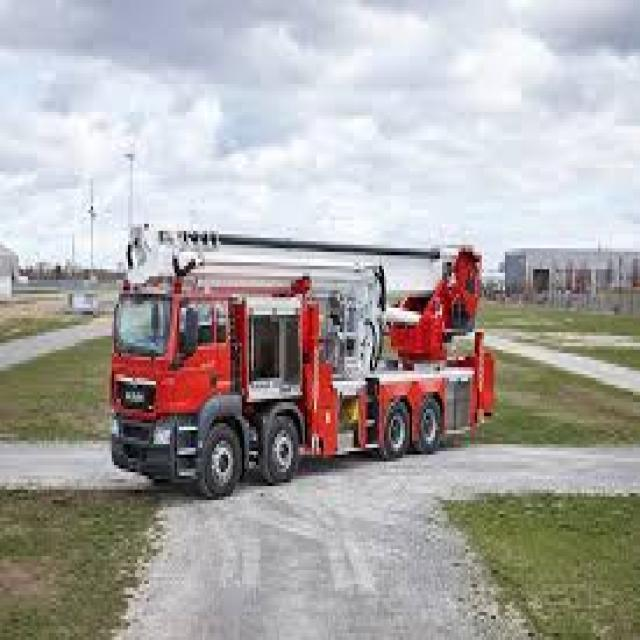emergency: (109, 211, 495, 497)
